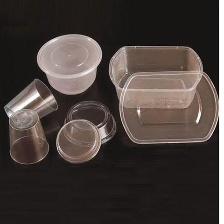plastic_box: (105, 33, 218, 149), (31, 28, 106, 99), (50, 96, 120, 167), (0, 73, 62, 129), (3, 104, 52, 168)
